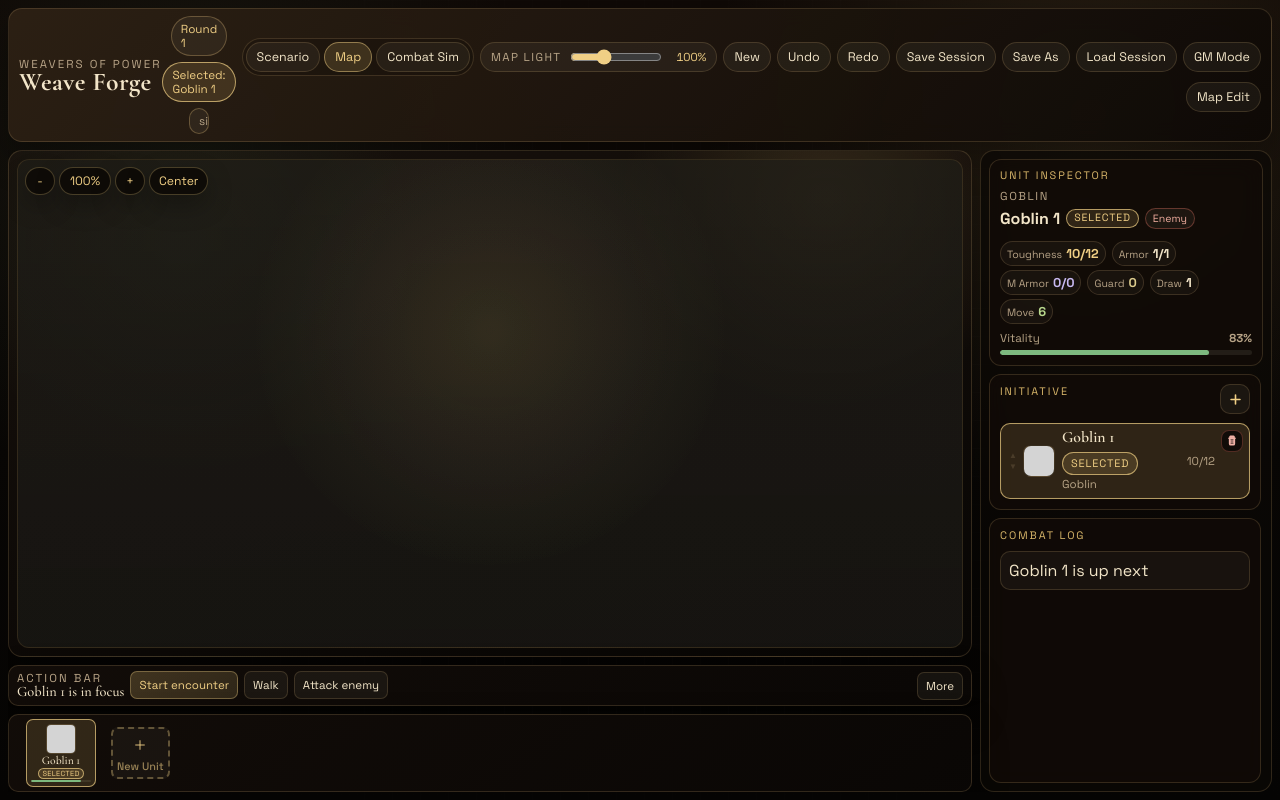
Test: App › posts Redo from the top menu and updates the snapshot
What coordinates should you click on to do the following:
click the button "Redo"
I would click on:
 (863, 57)
Its box is [837, 42, 890, 72].
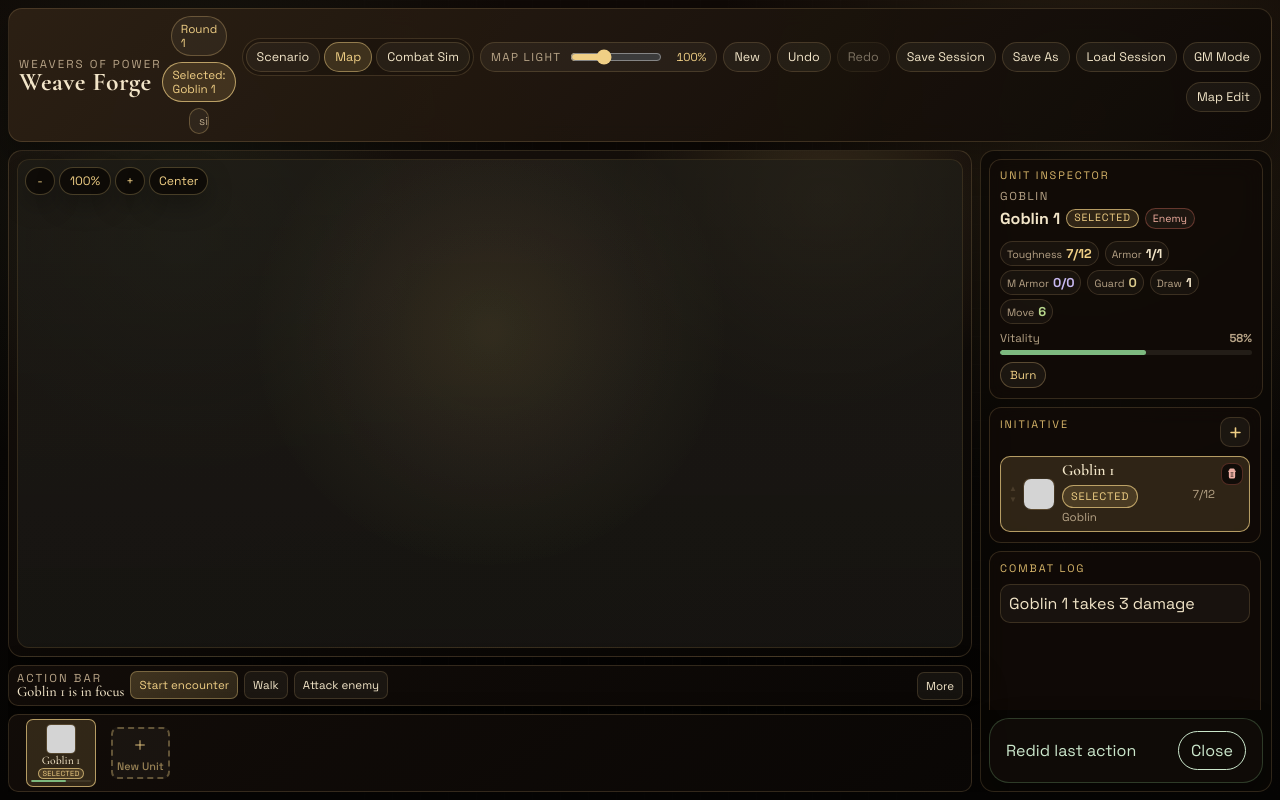
Now the text "Redid last action" is shown, box [1006, 740, 1136, 761]
Now the button "Redo" is disabled, box [837, 42, 890, 72]
